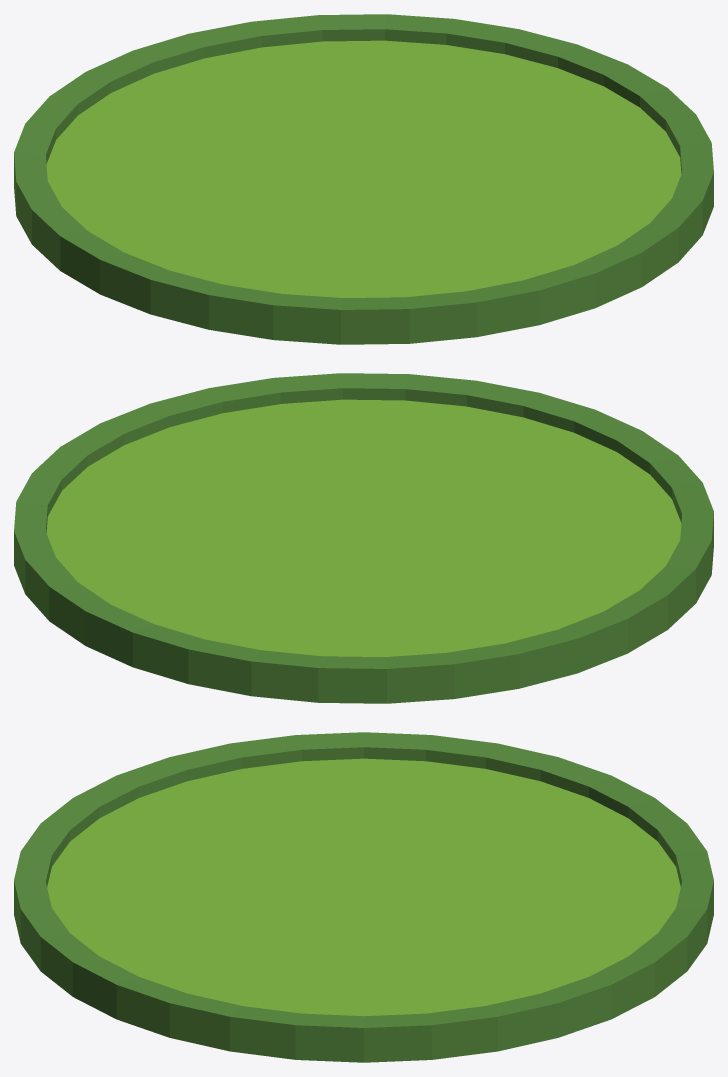
Rendered from FBX_Cucumber.fbx.
3 views of the same model, one above another, from view 1: azimuth 30°, elevation 25°; view 2: azimuth 150°, elevation 25°; view 3: azimuth 270°, elevation 25° (orthographic).
Parts seen in each view (by area): view 1: Cucumber; view 2: Cucumber; view 3: Cucumber.
Boxes of the visible parts, box(x1,y1,x2,y2) form: Cucumber: box(14, 14, 713, 344); Cucumber: box(14, 373, 713, 703); Cucumber: box(14, 732, 713, 1062).
Bounding box in the file's own units: 200 × 10.95 × 200.
